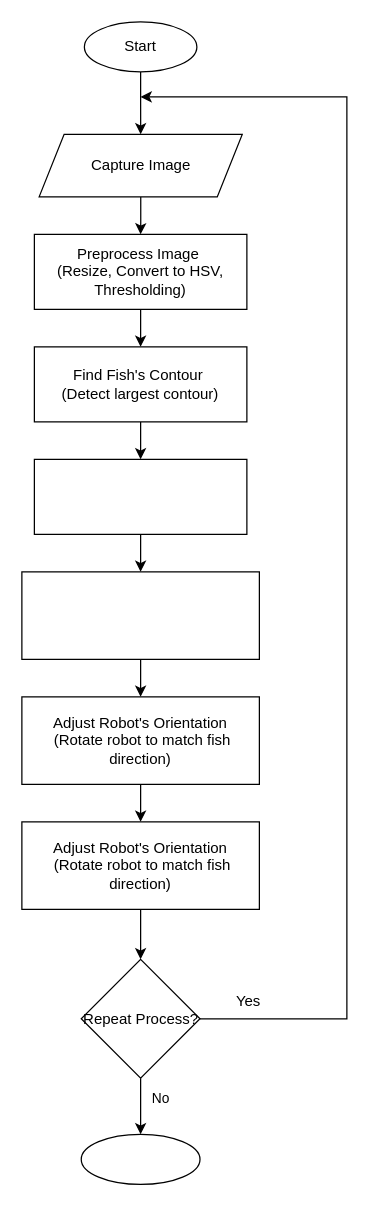
Image size: 379x1206. Some labels were removed from this diagram. The shapes that lost their labels are listed below. From the top down, each one's box as (x1, y1, x2, y2) in pixels, then its label:
(33, 458, 247, 534): Identify Head & Tail (Find the head and tail points)
(21, 571, 259, 659): Calculate the Angle (Between Head-Tail line and horizontal, counter-clockwise)
(80, 1133, 200, 1184): End
